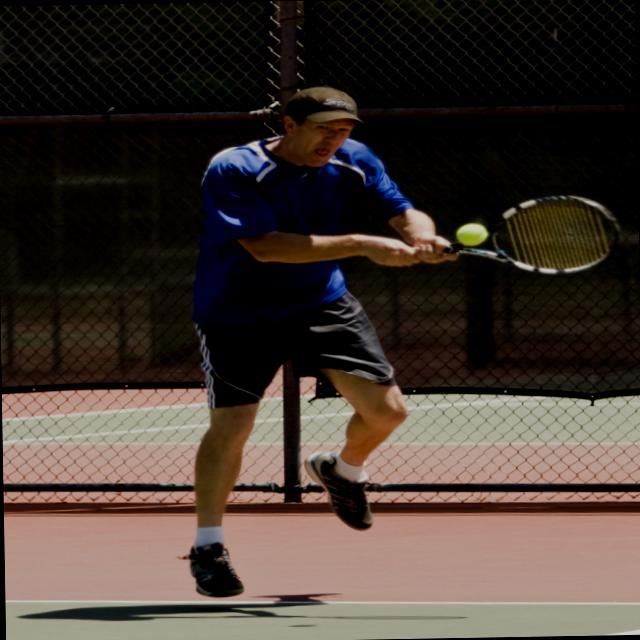Tennis ball: (452, 222, 488, 248)
